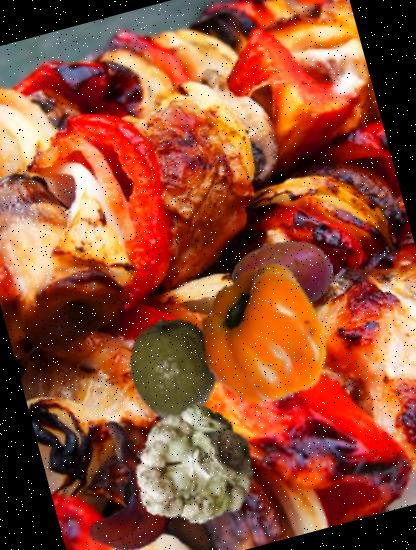Banana: (57, 417, 206, 550)
Cauliflower: (119, 392, 272, 544)
Guava: (112, 306, 240, 434)
Pear: (105, 442, 240, 550)
Pepper: (178, 247, 352, 422)
Potato: (221, 212, 345, 336)
